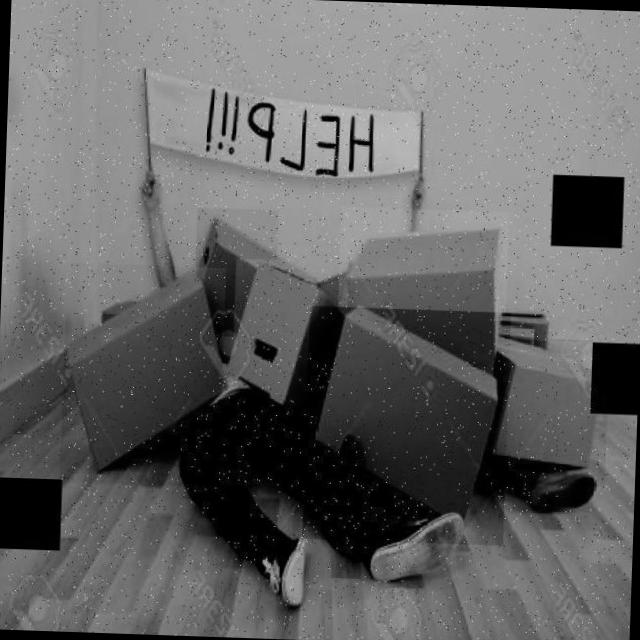box: (302, 305, 511, 545), (59, 262, 226, 488), (335, 206, 509, 377), (488, 338, 609, 486), (230, 258, 333, 423), (192, 207, 278, 338)
